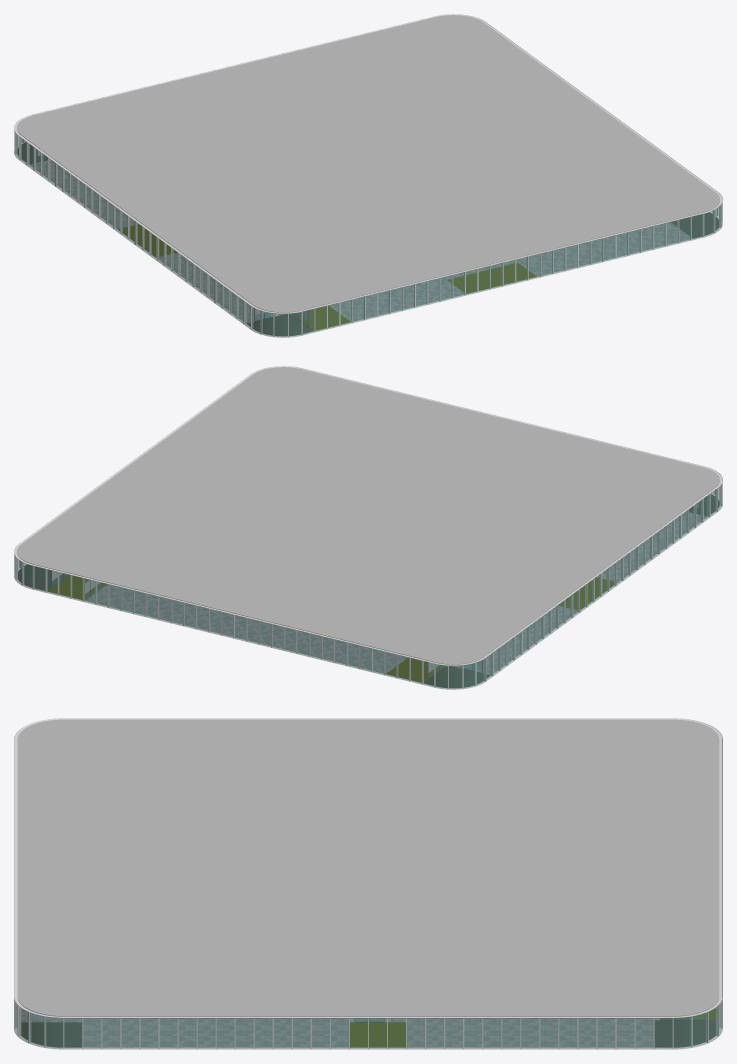
The model's file is OfficeShell.fbx.
3 views of the same model, one above another, from view 1: azimuth 30°, elevation 25°; view 2: azimuth 150°, elevation 25°; view 3: azimuth 270°, elevation 25° (orthographic). The views are drawn at different scales.
Visible parts, largest first — view 1: CeilingTop, WindowGlass, Floor1, Pannel, Mullions; view 2: CeilingTop, WindowGlass, Floor1, Mullions, Pannel; view 3: CeilingTop, WindowGlass, Floor1, Pannel, Mullions.
Part boxes in pixels (x1,y1,x2,y2): CeilingTop: [17, 15, 719, 312]; WindowGlass: [15, 132, 722, 337]; Floor1: [17, 142, 718, 336]; Pannel: [14, 14, 722, 337]; Mullions: [14, 131, 722, 337]; CeilingTop: [17, 367, 719, 664]; WindowGlass: [14, 484, 721, 689]; Floor1: [18, 494, 719, 688]; Mullions: [14, 483, 722, 689]; Pannel: [14, 366, 722, 689]; CeilingTop: [17, 719, 719, 1016]; WindowGlass: [14, 1000, 722, 1048]; Floor1: [21, 1008, 715, 1047]; Pannel: [14, 718, 722, 1049]; Mullions: [14, 999, 722, 1049].
Size of the model in its own units: 5585 by 278 by 5585.
